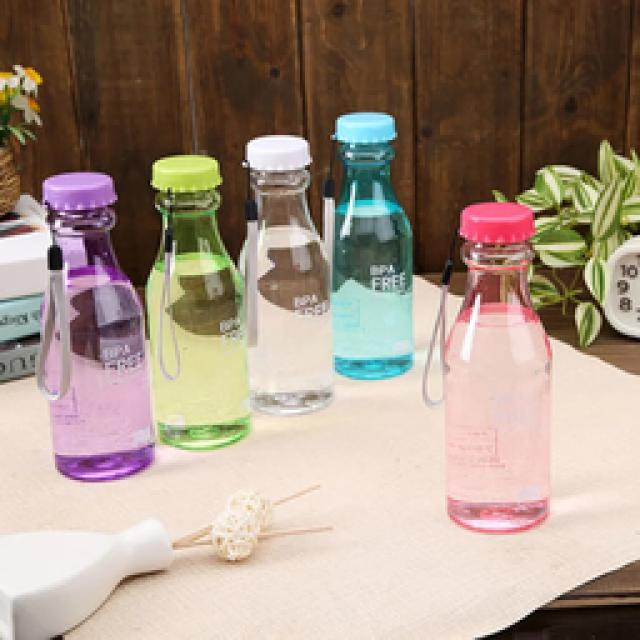plastic: (38, 112, 410, 480), (430, 202, 550, 530)
